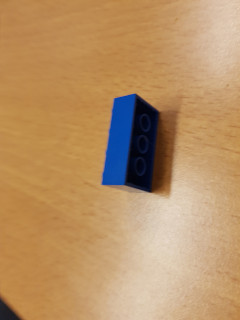2x4 blue: (101, 92, 157, 197)
